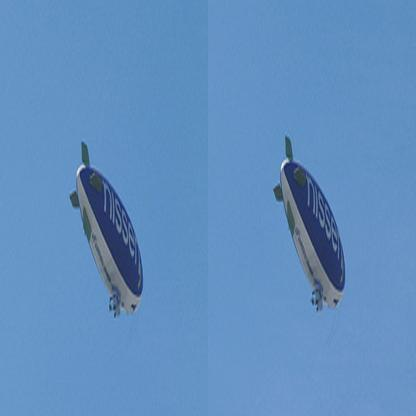Airship: (64, 136, 162, 325), (270, 134, 361, 318)
